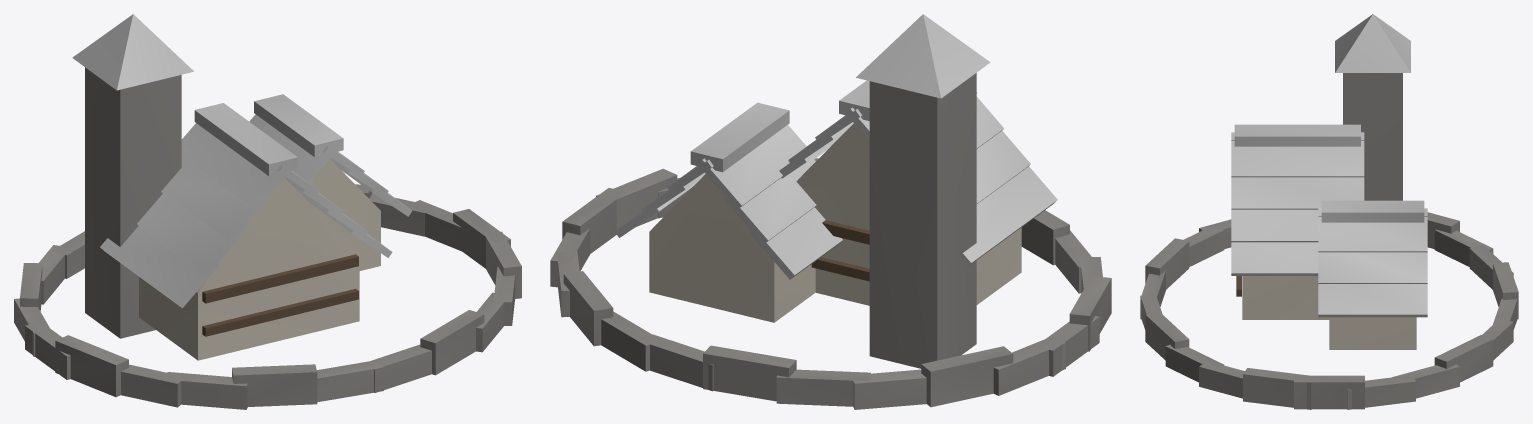
File: city.glb
3 renders of one model, left to right at view 1: azimuth 30°, elevation 25°; view 2: azimuth 150°, elevation 25°; view 3: azimuth 270°, elevation 25°, orthographic. The views are drawn at different scales.
Parts seen in each view (by area): view 1: city_roofs_tint, city_wall, city_bodies, city_tower, city_timber; view 2: city_wall, city_roofs_tint, city_tower, city_bodies, city_timber; view 3: city_roofs_tint, city_wall, city_bodies, city_tower.
Boxes of the visible parts, x1,y1,x2,y2 form: city_roofs_tint: [72, 14, 412, 307]; city_wall: [14, 184, 521, 409]; city_bodies: [139, 159, 380, 360]; city_tower: [85, 67, 181, 338]; city_timber: [202, 254, 358, 336]; city_wall: [550, 158, 1111, 409]; city_roofs_tint: [614, 14, 1057, 279]; city_tower: [869, 73, 976, 368]; city_bodies: [649, 123, 1021, 322]; city_timber: [811, 220, 869, 281]; city_roofs_tint: [1231, 14, 1427, 317]; city_wall: [1140, 212, 1518, 409]; city_bodies: [1242, 276, 1416, 349]; city_tower: [1343, 73, 1402, 200].
Size of the model in its own units: 0.5531 by 0.36 by 0.478.
